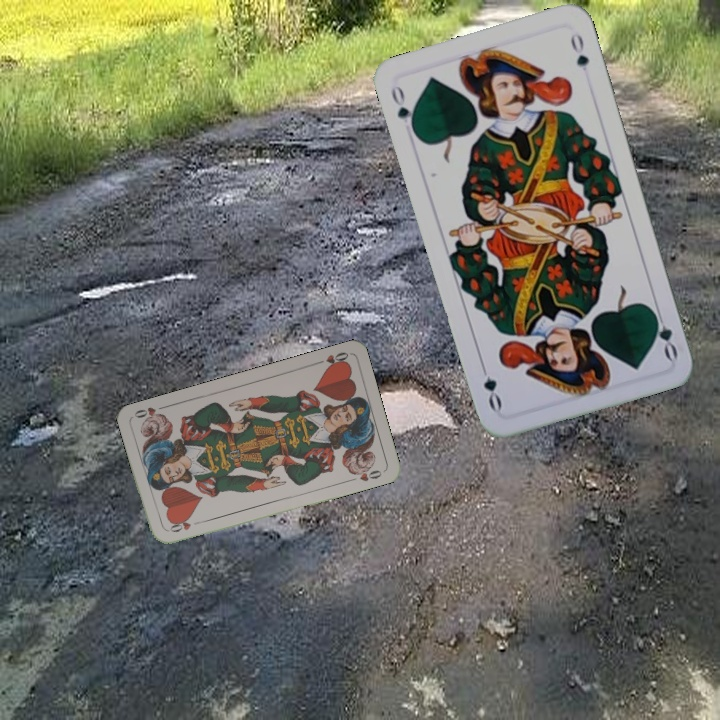GO: (647, 304, 681, 362), (387, 81, 418, 138)
HO: (312, 348, 351, 370), (164, 516, 203, 535)
